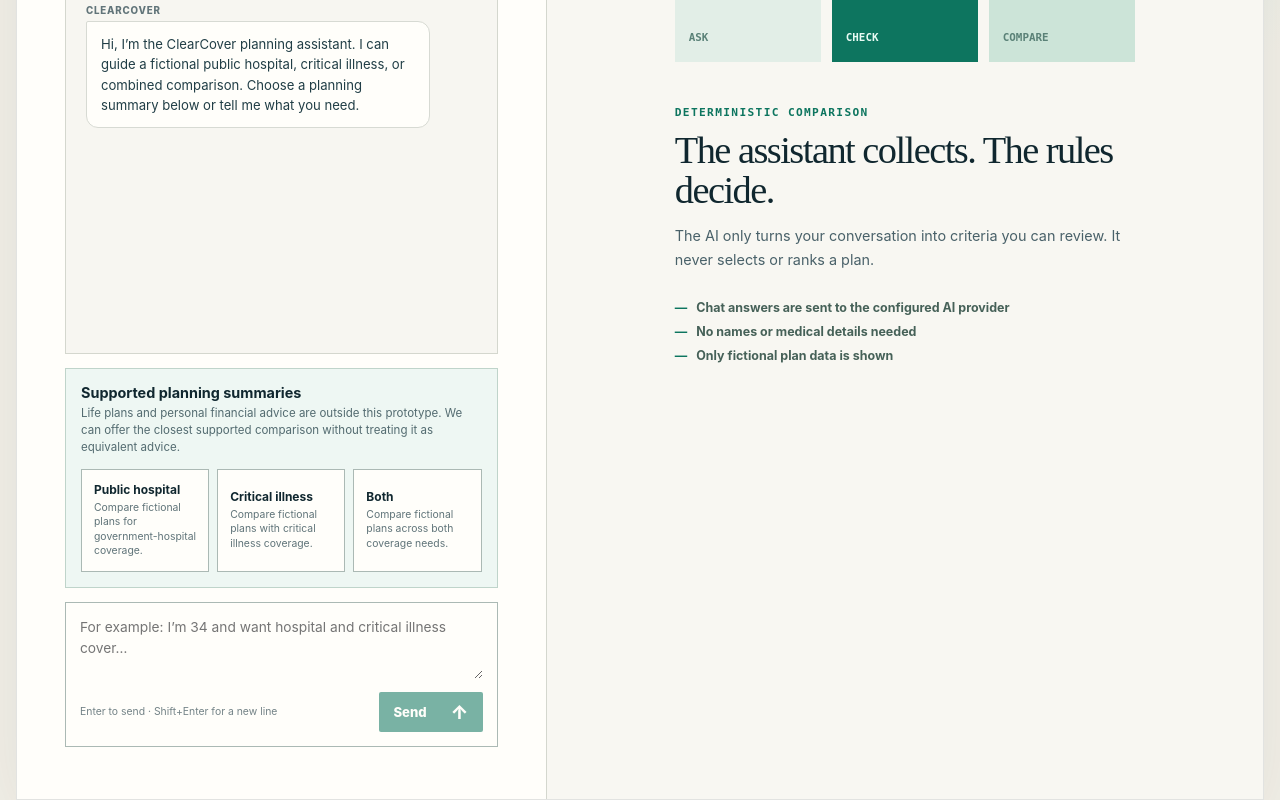
Scenario: InsurancePlanner › redirects unsupported requests into a guided supported plan choice
This screenshot has width=1280, height=800.
(page scrolled)
Type "Create a life plan and give me financial advice." into the text box named "Reply to the planning assistant" at point(281, 648), box [80, 617, 482, 679]
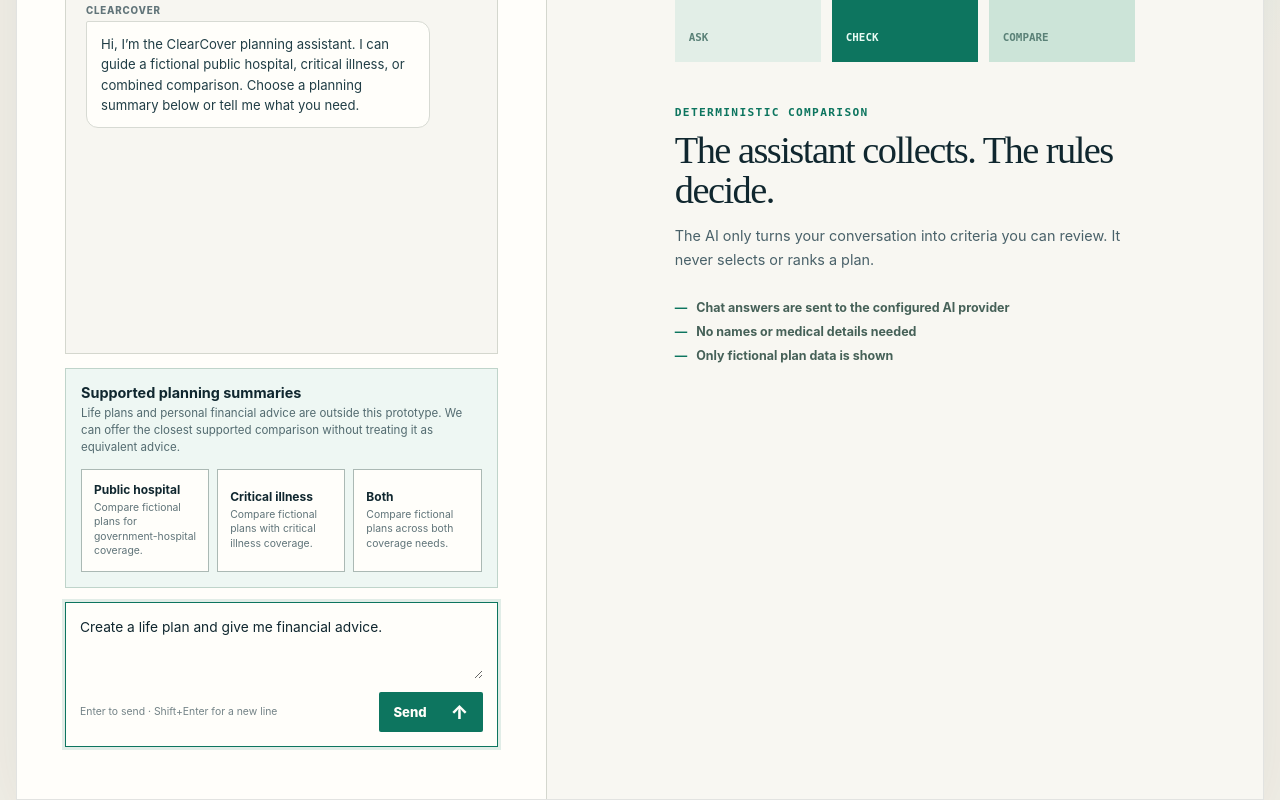
Click the button "Send ↑" at point(431, 712), box [379, 692, 483, 732]
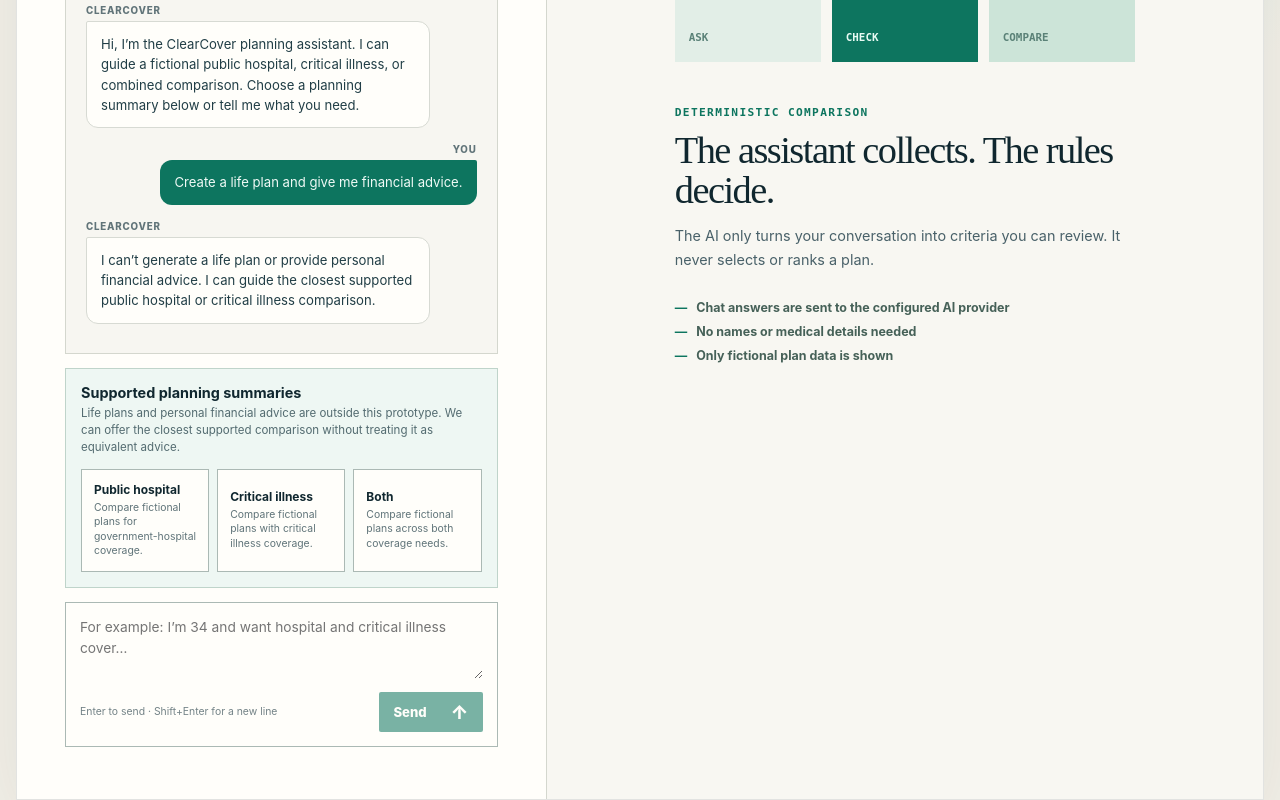
Expected: the heading "Supported planning summaries" is shown, [81, 384, 301, 401]
Expected: the text "I can’t generate a life plan" is shown, [101, 252, 412, 308]
Click the button "Critical illness" at point(281, 520), box [217, 469, 345, 572]
(page scrolled)
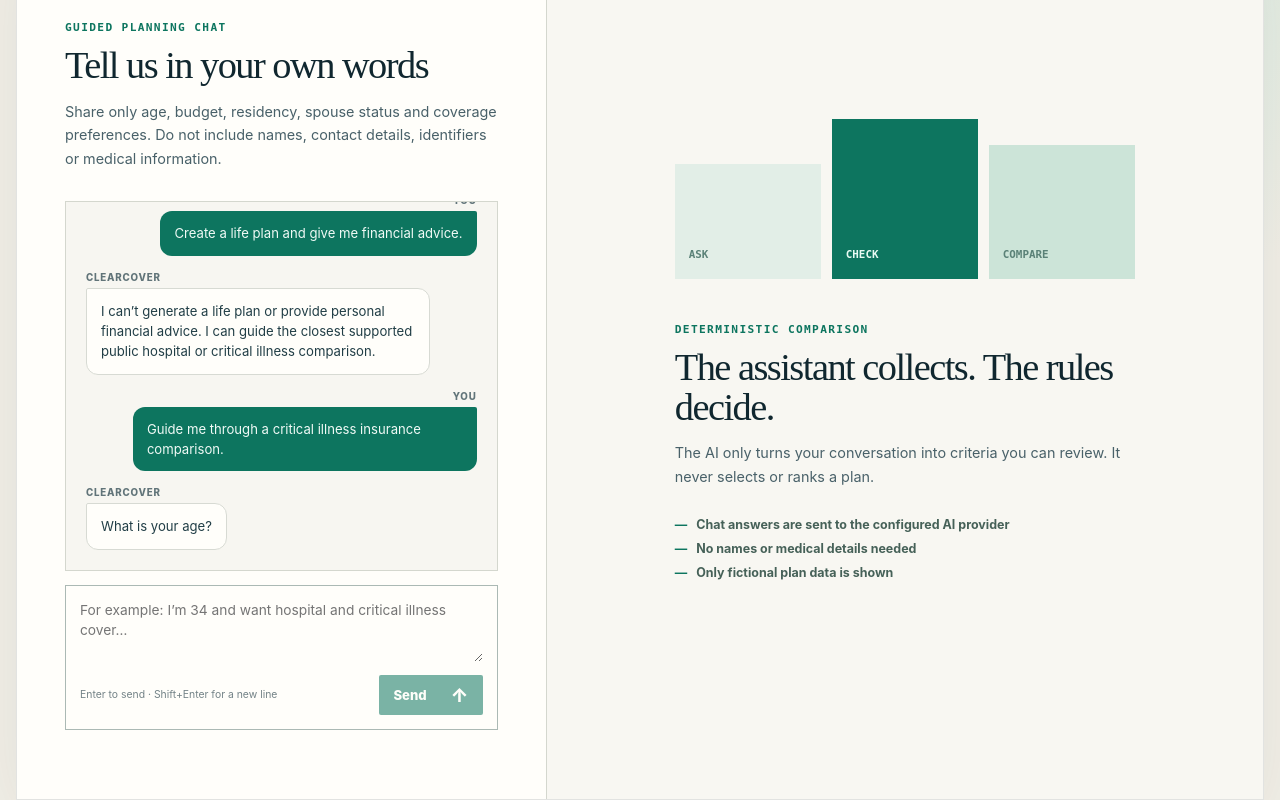
Expected: the text "What is your age?" is shown, [86, 503, 227, 550]
Expected: the text "Guide me through a critical illness insurance comparison." is shown, [133, 407, 477, 471]
